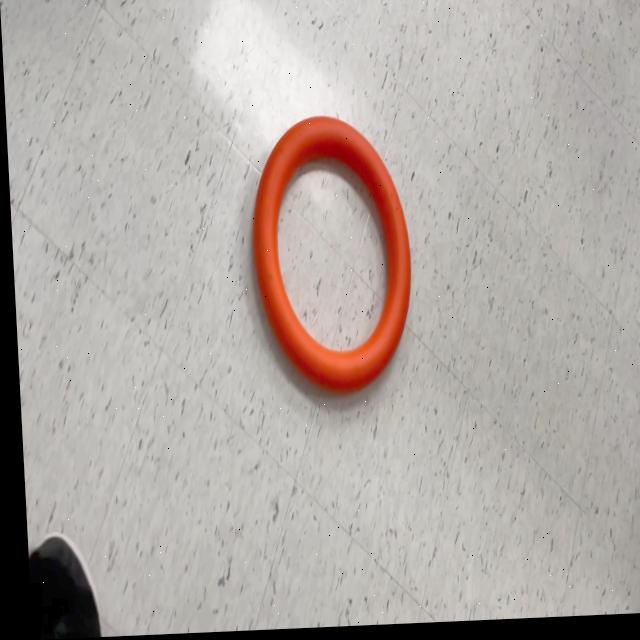note: (243, 114, 411, 397)
